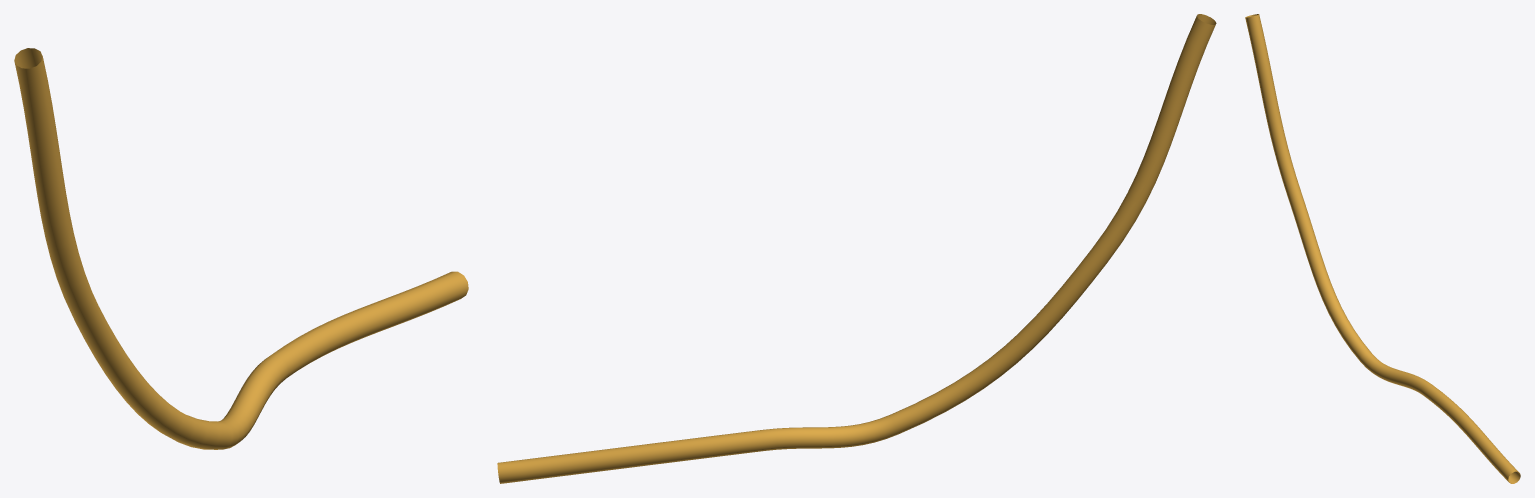
The picture shows the model from 3 angles, left to right: view 1: azimuth 30°, elevation 25°; view 2: azimuth 150°, elevation 25°; view 3: azimuth 270°, elevation 25°; orthographic projection. The views are drawn at different scales.
Visible parts, largest first — view 1: 右侧腮腺管; view 2: 右侧腮腺管; view 3: 右侧腮腺管.
Boxes of the visible parts, box(x1,y1,x2,y2) form: 右侧腮腺管: box(14, 48, 468, 449); 右侧腮腺管: box(497, 14, 1216, 483); 右侧腮腺管: box(1245, 14, 1520, 483).
Bounding box in the file's own units: 0.0417 × 0.034 × 0.0281.
